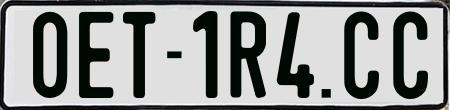0: (33, 11, 73, 99)
1: (192, 8, 220, 97)
4: (276, 10, 316, 97)
C: (343, 10, 380, 100), (390, 10, 426, 99)
E: (78, 12, 114, 103)
R: (229, 9, 267, 102)
T: (121, 10, 155, 102)
